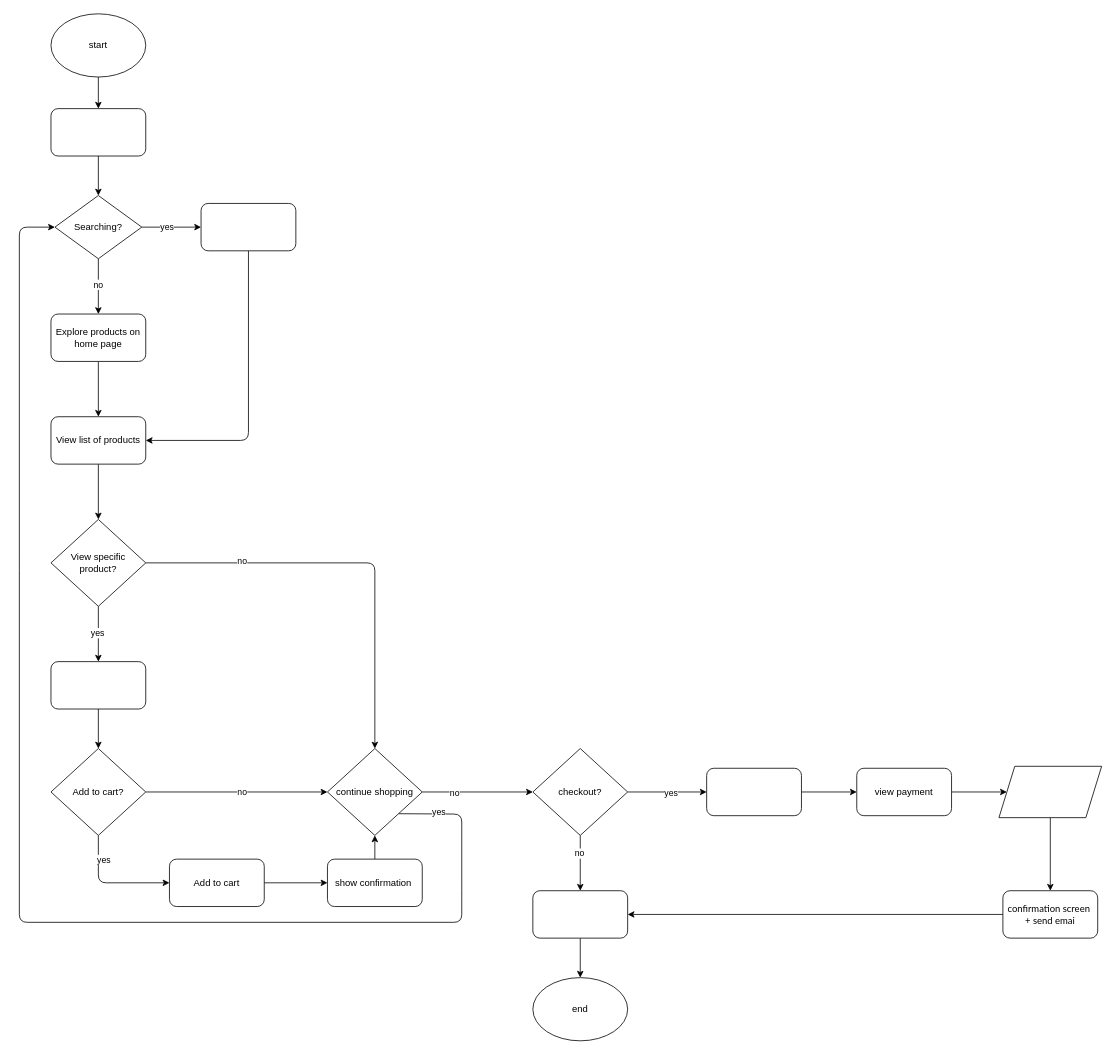
This 1115x1055 diagram has some shape labels left out. Each missing label, with the box of its shape:
Enter Website: (50, 108, 146, 156)
Input search: (200, 203, 296, 251)
leave website: (532, 890, 628, 938)
open page: (50, 661, 146, 709)
payment information: (998, 766, 1102, 818)
view cart: (706, 767, 801, 816)
